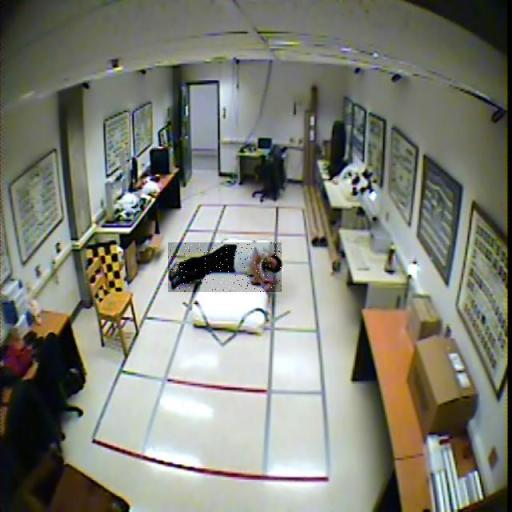Fall: (168, 242, 282, 292)
